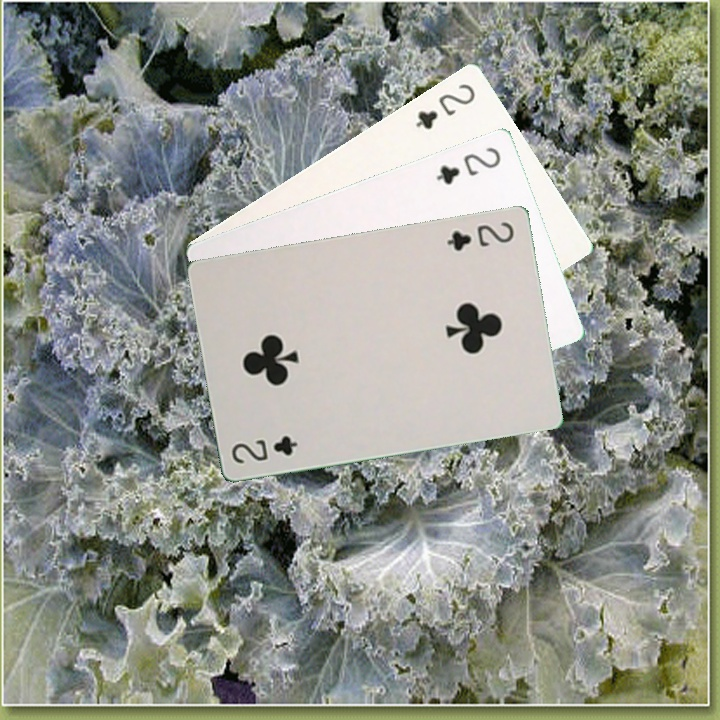2c: (411, 79, 478, 132), (432, 143, 503, 188), (442, 218, 516, 253), (227, 431, 300, 466)
